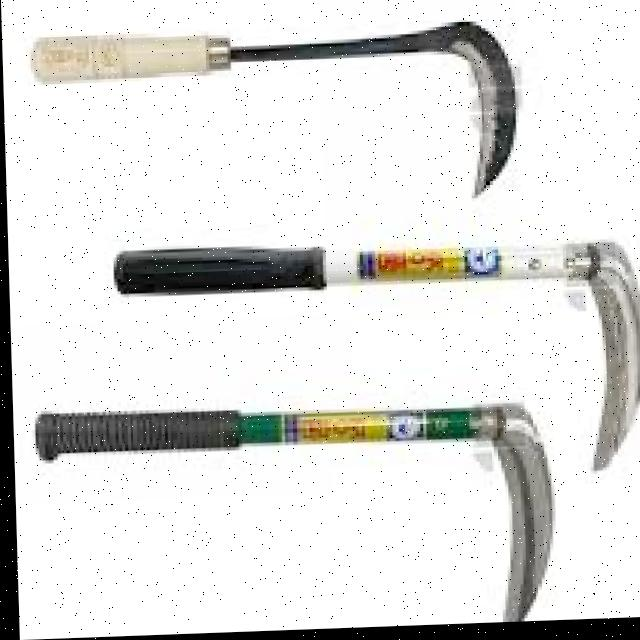sickle: (108, 221, 640, 508), (25, 381, 568, 640), (37, 28, 534, 214)
